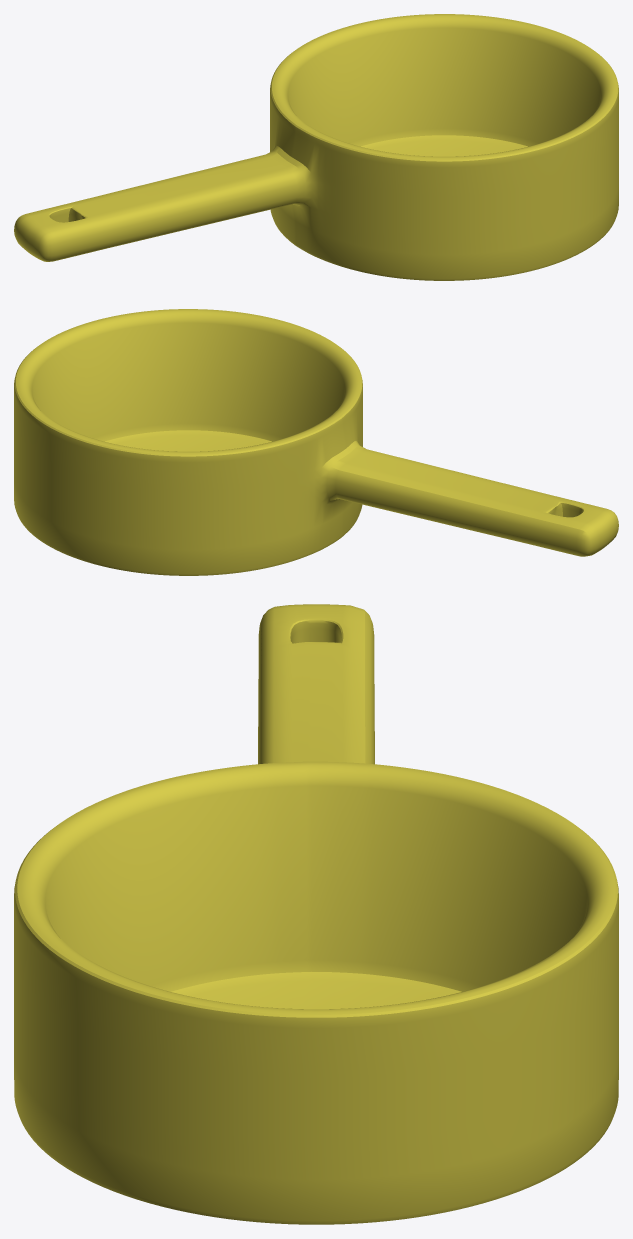
Rendered from ollaGrande3.fbx.
3 renders of one model, top to bottom at view 1: azimuth 30°, elevation 25°; view 2: azimuth 150°, elevation 25°; view 3: azimuth 270°, elevation 25°, orthographic. The views are drawn at different scales.
Visible parts, largest first — view 1: ollaGrande3; view 2: ollaGrande3; view 3: ollaGrande3.
Part boxes in pixels (x1,y1,x2,y2): ollaGrande3: (14, 14, 618, 280); ollaGrande3: (14, 309, 618, 575); ollaGrande3: (14, 604, 618, 1224).
Size of the model in its own units: 65.1 by 13.32 by 34.46.
